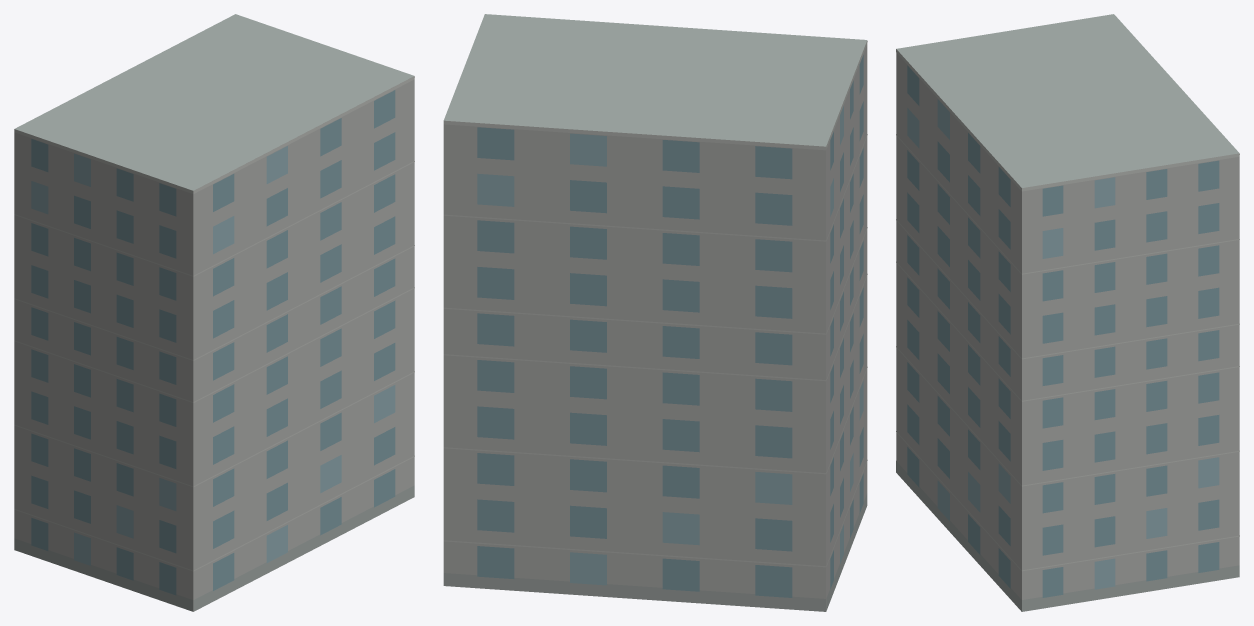
The model's file is survey-upis-32804562.glb.
3 views of the same model, side by side, from view 1: azimuth 30°, elevation 25°; view 2: azimuth 150°, elevation 25°; view 3: azimuth 270°, elevation 25° (orthographic). The views are drawn at different scales.
Visible parts, largest first — view 1: survey-upis-32804562.tmp; view 2: survey-upis-32804562.tmp; view 3: survey-upis-32804562.tmp.
Boxes of the visible parts, bbox=[...] form: survey-upis-32804562.tmp: bbox=[14, 14, 414, 611]; survey-upis-32804562.tmp: bbox=[443, 14, 867, 611]; survey-upis-32804562.tmp: bbox=[896, 14, 1239, 611].
Size of the model in its own units: 26.91 by 30.5 by 22.44.
